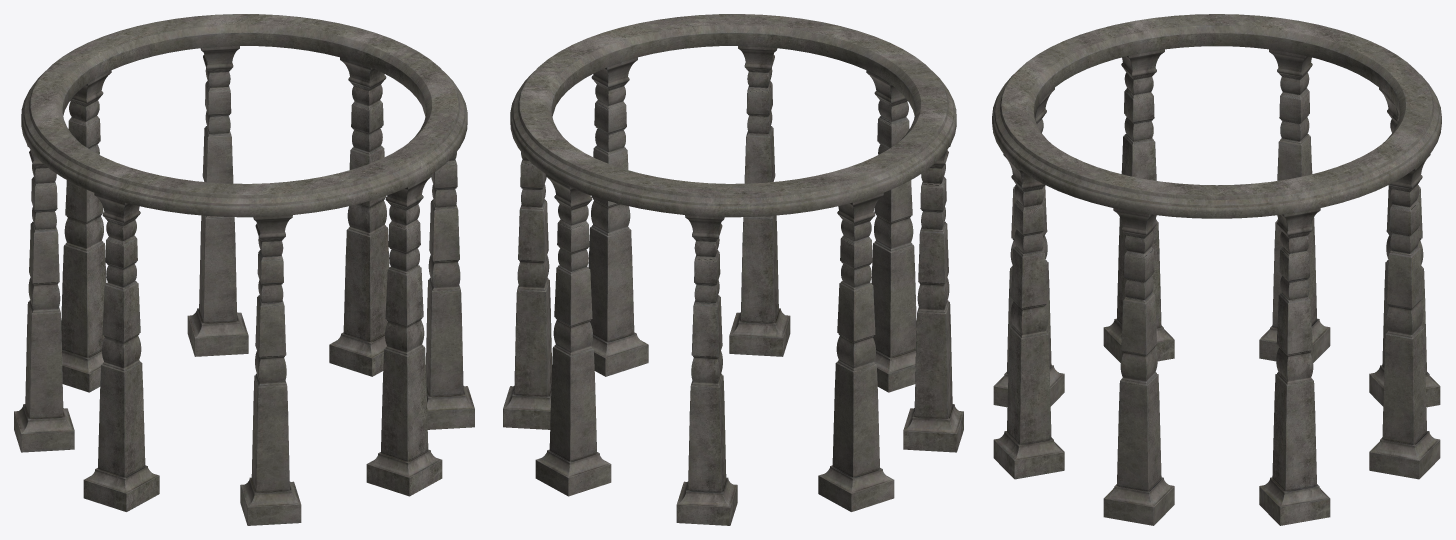
Rendered from moonwell-stone-circle.glb.
3 renders of one model, left to right at view 1: azimuth 30°, elevation 25°; view 2: azimuth 150°, elevation 25°; view 3: azimuth 270°, elevation 25°, orthographic.
Visible parts, largest first — view 1: Steinkreis-mystisch_0; view 2: Steinkreis-mystisch_0; view 3: Steinkreis-mystisch_0.
Part boxes in pixels (<box>): Steinkreis-mystisch_0: <box>14,14,474,525</box>; Steinkreis-mystisch_0: <box>503,14,963,525</box>; Steinkreis-mystisch_0: <box>992,14,1441,525</box>.
Size of the model in its own units: 7.98 by 6.39 by 7.98.
Materials: 1 (1 with a texture image).
